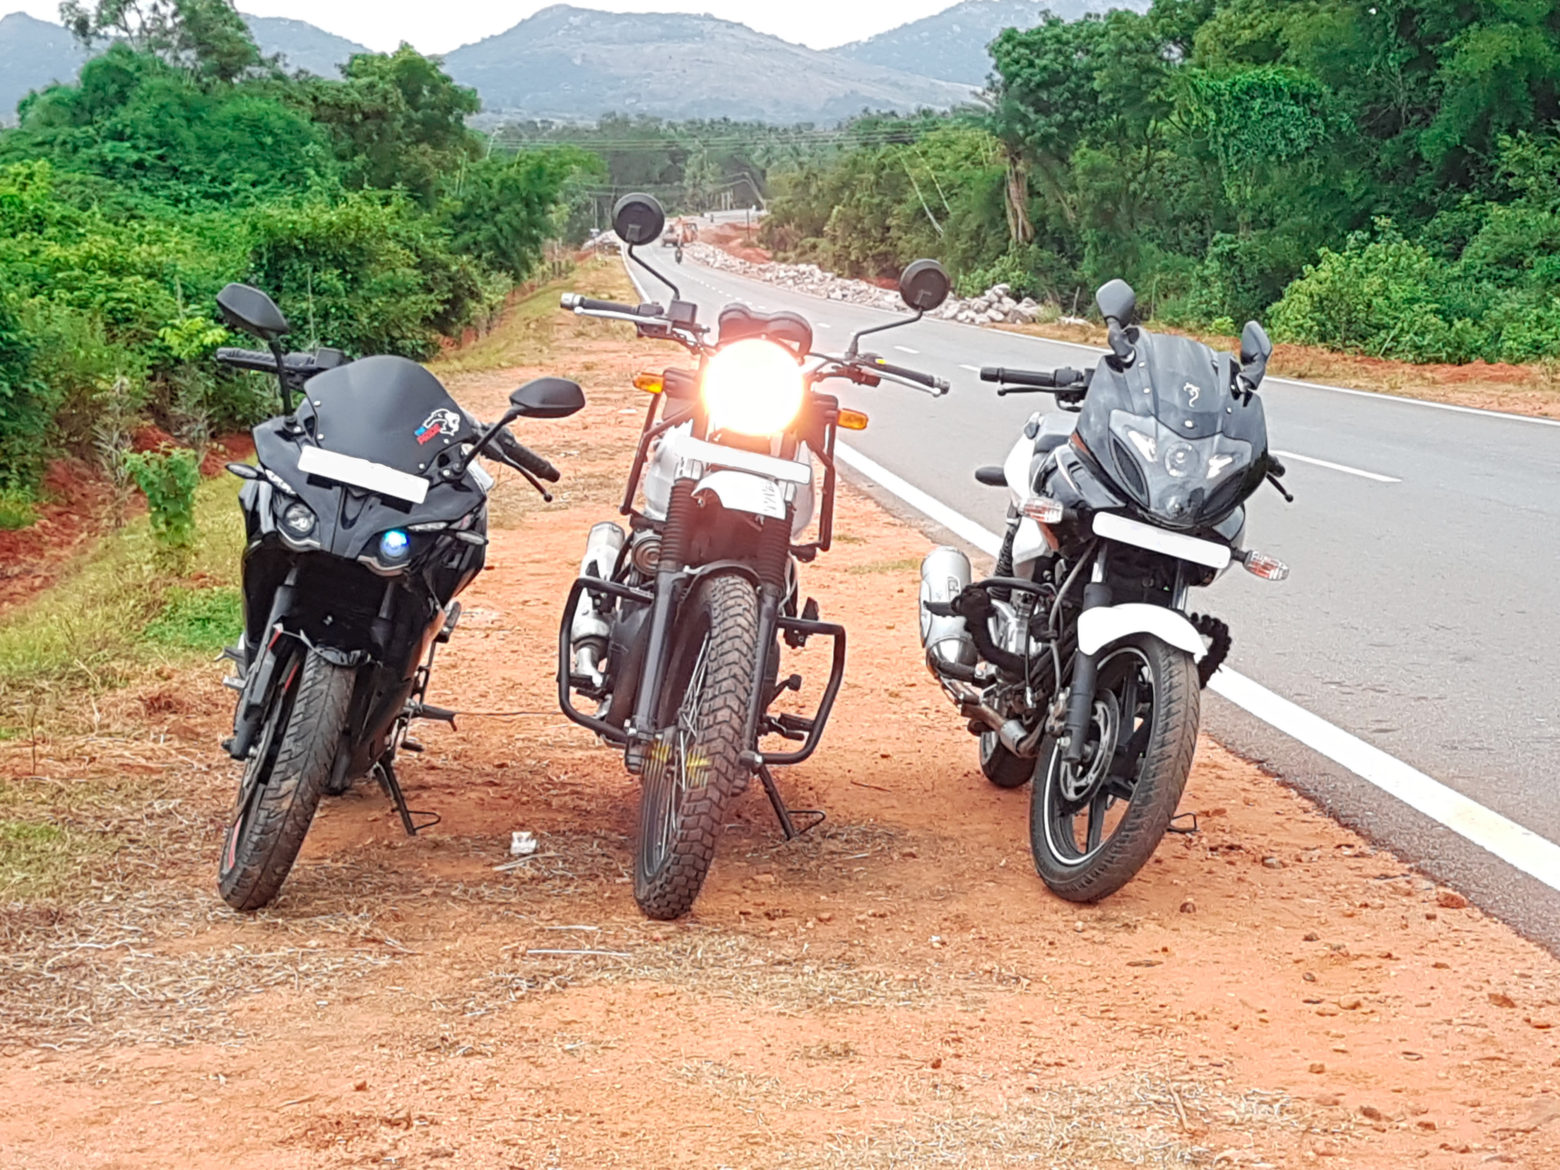bike: (547, 194, 934, 923), (954, 273, 1292, 892), (208, 272, 540, 889)
